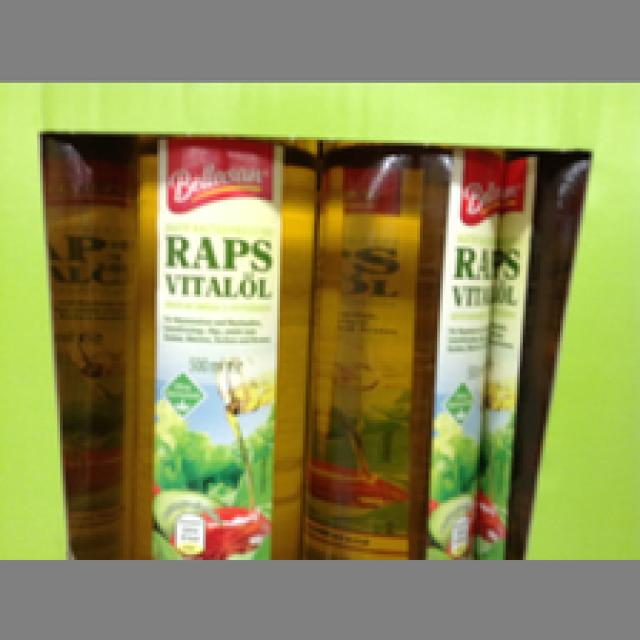groceries: (300, 140, 506, 554), (114, 135, 317, 554)
